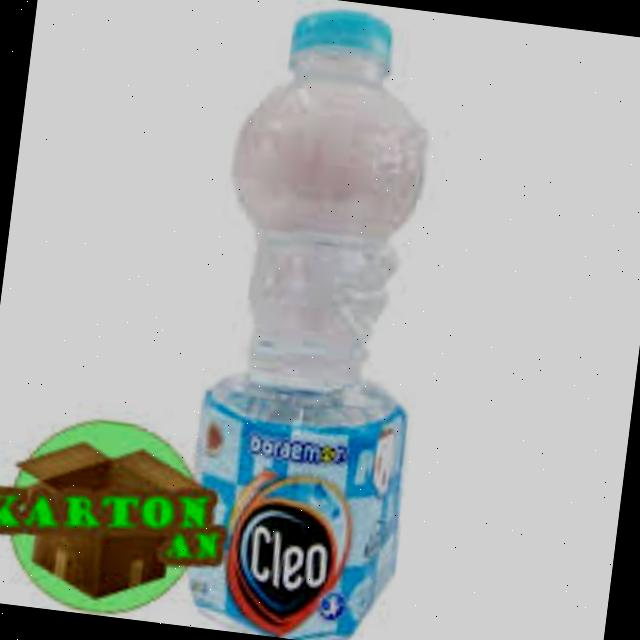trash: (165, 0, 468, 640)
